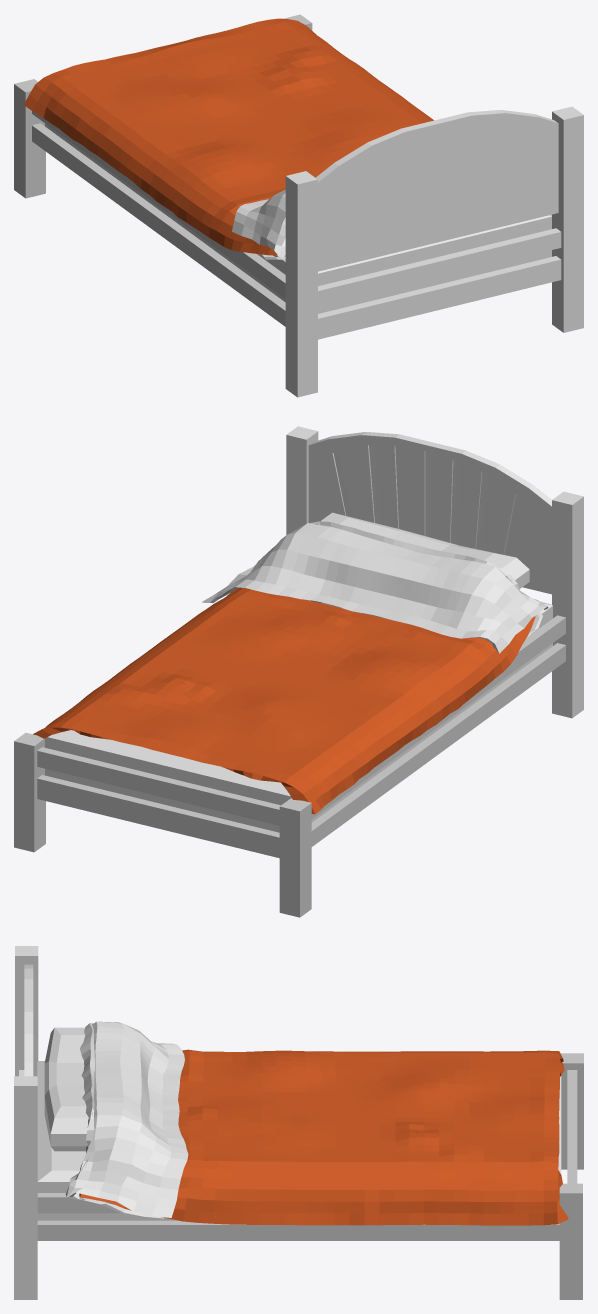
File: bed-tidy-covers.fbx
3 renders of one model, top to bottom at view 1: azimuth 30°, elevation 25°; view 2: azimuth 150°, elevation 25°; view 3: azimuth 270°, elevation 25°, orthographic.
Parts seen in each view (by area): view 1: bed, blanket, side-left, mattress, foot, sheet; view 2: blanket, bed, sheet, foot, side-left, mattress, pillow; view 3: blanket, sheet, side-right, bed, foot, pillow, mattress.
Part boxes in pixels (box(x1,y1,x2,y2)): bed: box(285, 106, 583, 397); blanket: box(24, 18, 433, 255); side-left: box(32, 111, 285, 326); mattress: box(45, 123, 551, 313); foot: box(14, 14, 312, 198); sheet: box(232, 189, 285, 259); blanket: box(33, 587, 535, 814); bed: box(286, 426, 583, 718); sheet: box(201, 521, 548, 653); foot: box(14, 732, 311, 917); side-left: box(311, 615, 565, 846); mattress: box(45, 602, 552, 832); pillow: box(320, 512, 529, 588); blanket: box(79, 1049, 568, 1225); sheet: box(65, 1021, 188, 1218); side-right: box(37, 1193, 559, 1240); bed: box(14, 946, 38, 1299); foot: box(559, 1053, 583, 1299); pillow: box(44, 1027, 88, 1151); mattress: box(37, 1061, 561, 1220).
Size of the model in its own units: 695 by 508 by 1114.
